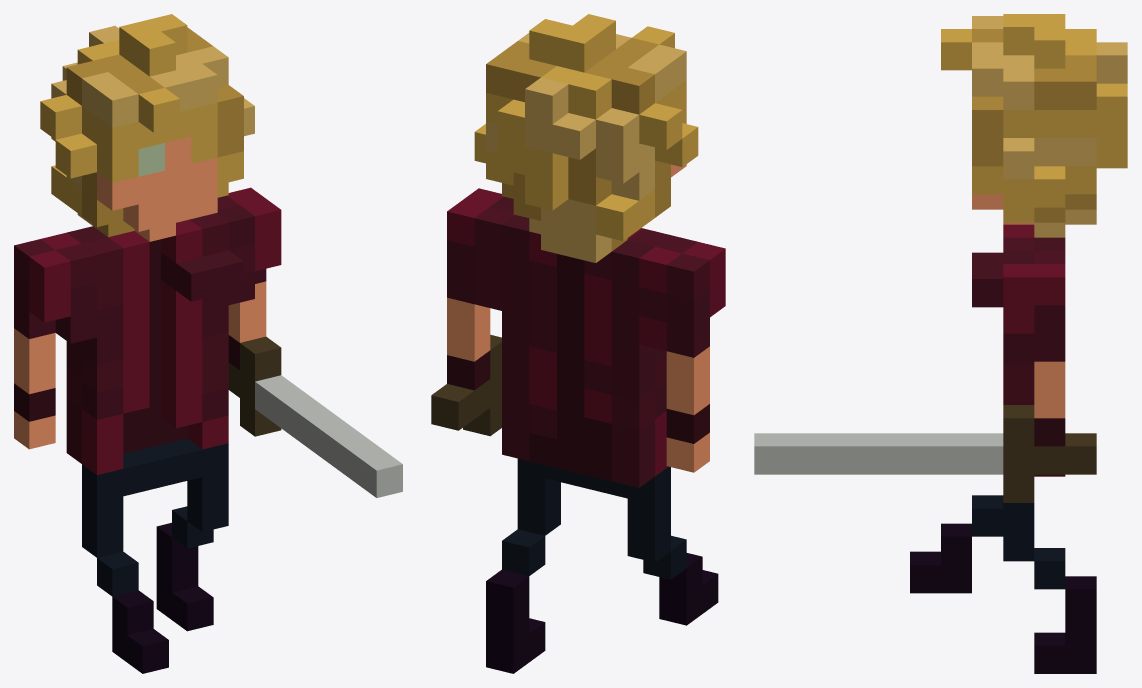
Rendered from SwingingBoyCharacter-4.obj.
3 renders of one model, left to right at view 1: azimuth 30°, elevation 25°; view 2: azimuth 150°, elevation 25°; view 3: azimuth 270°, elevation 25°, orthographic. The views are drawn at different scales.
Parts seen in each view (by area): view 1: SwingingBoyCharacter-4; view 2: SwingingBoyCharacter-4; view 3: SwingingBoyCharacter-4.
Boxes of the visible parts, left/top/right/bottom form: SwingingBoyCharacter-4: left=14, top=14, right=402, bottom=673; SwingingBoyCharacter-4: left=431, top=14, right=725, bottom=673; SwingingBoyCharacter-4: left=754, top=14, right=1127, bottom=673.
Size of the model in its own units: 9 by 22 by 12.
1 material, 1 textured.
